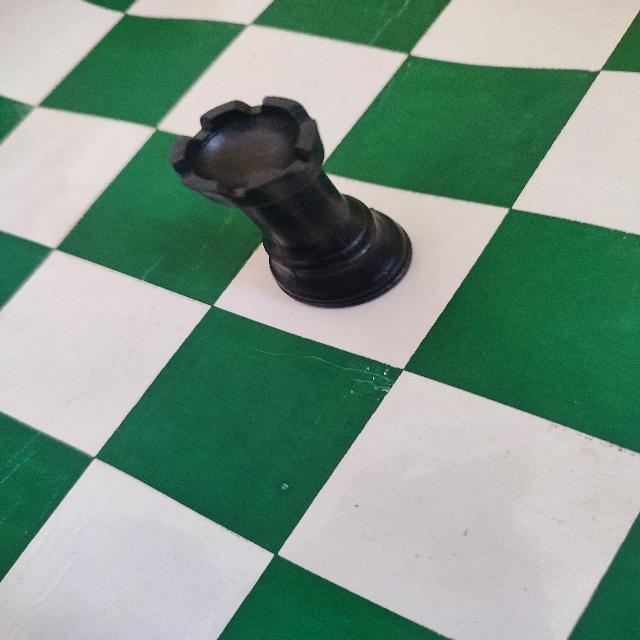Rook: (156, 91, 424, 319)
